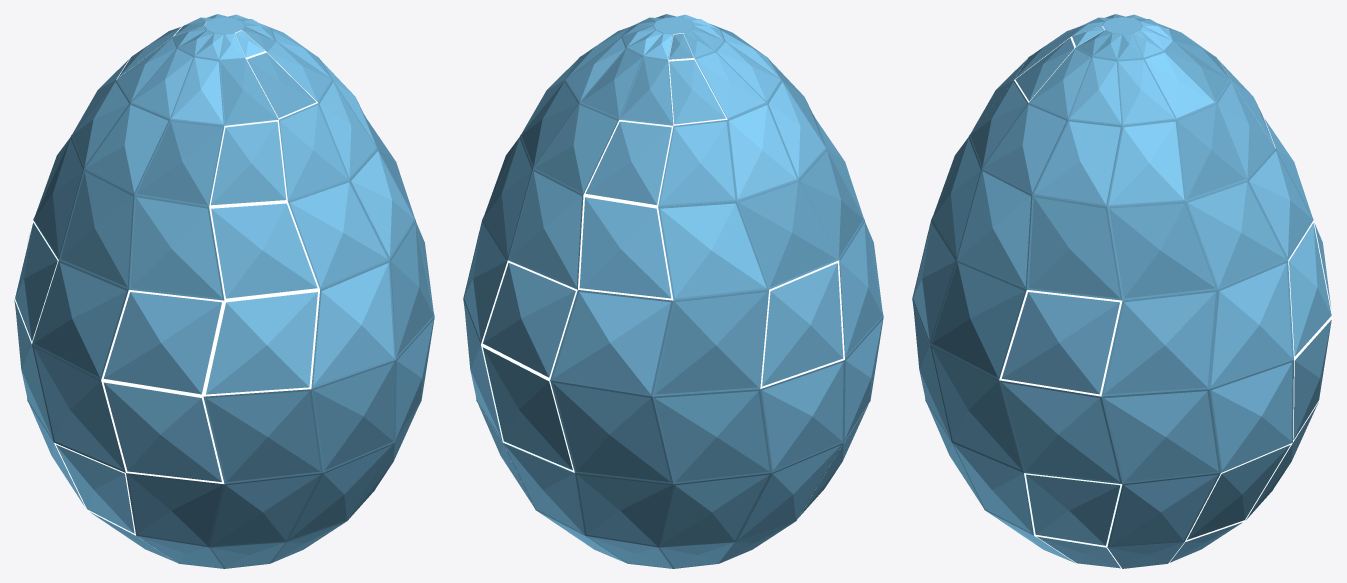
Rendered from water_dragon_egg.glb.
The picture shows the model from 3 angles, left to right: view 1: azimuth 30°, elevation 25°; view 2: azimuth 150°, elevation 25°; view 3: azimuth 270°, elevation 25°; orthographic projection.
Size of the model in its own units: 0.7363 by 0.975 by 0.7363.
